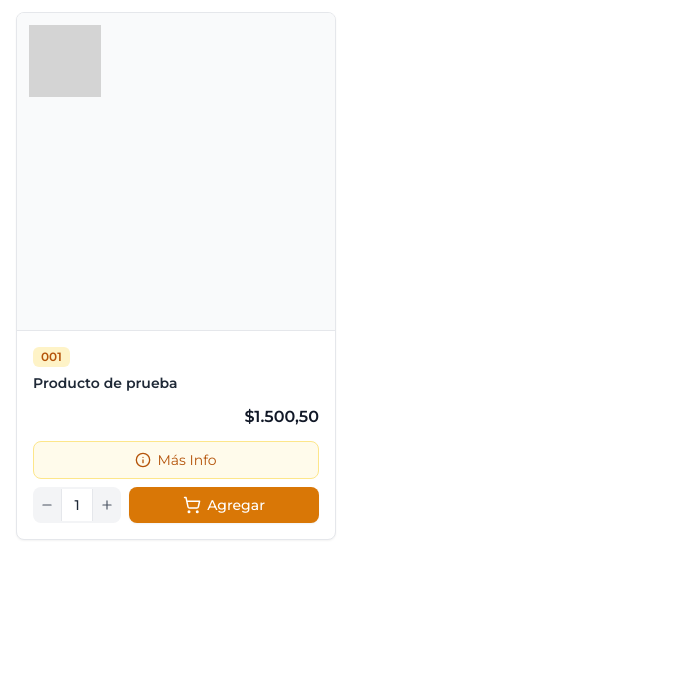
Test case: ProductCard › agregar al carrito › debería resetear cantidad a 1 después de agregar
The width and height of the screenshot is (681, 678).
Incrementar a 3
Click the button named "Aumentar cantidad": x=107, y=505 [93, 489, 121, 521]
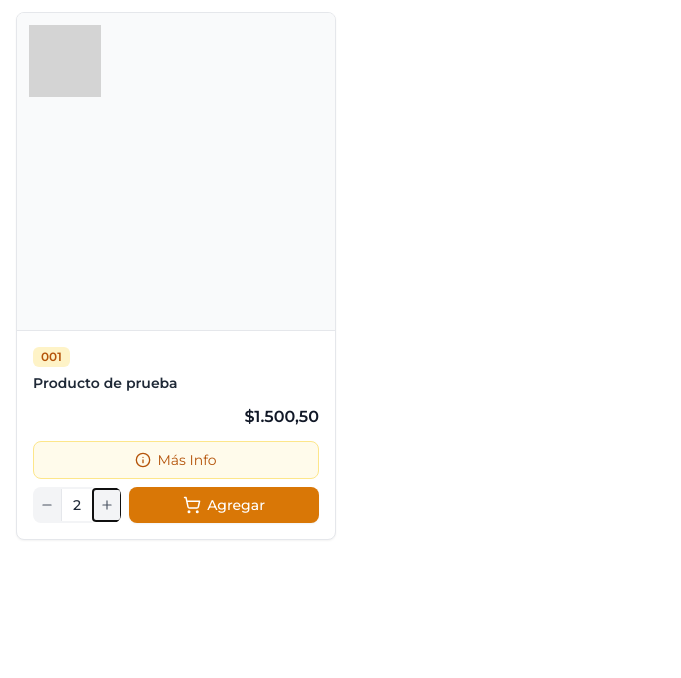
Click the button named "Aumentar cantidad": x=107, y=505 [93, 489, 121, 521]
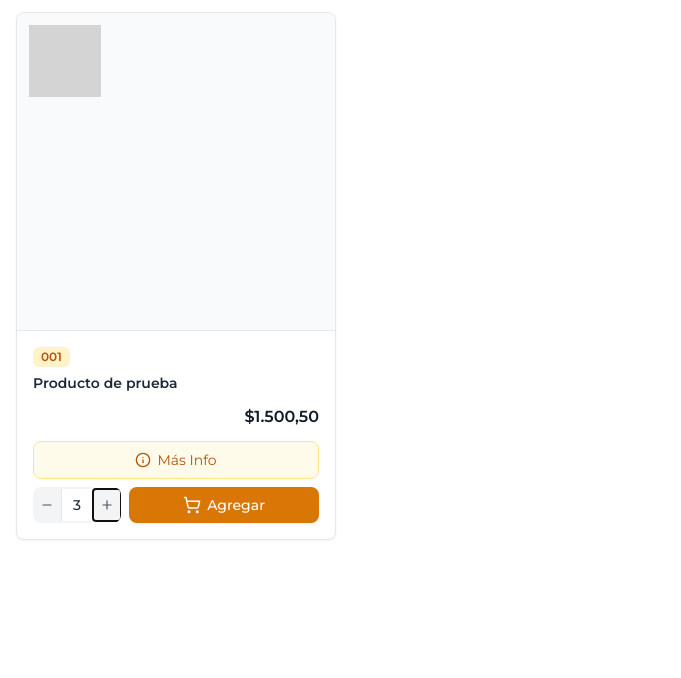
Click the button titled "Agregar al carrito": x=224, y=505 [129, 487, 319, 523]
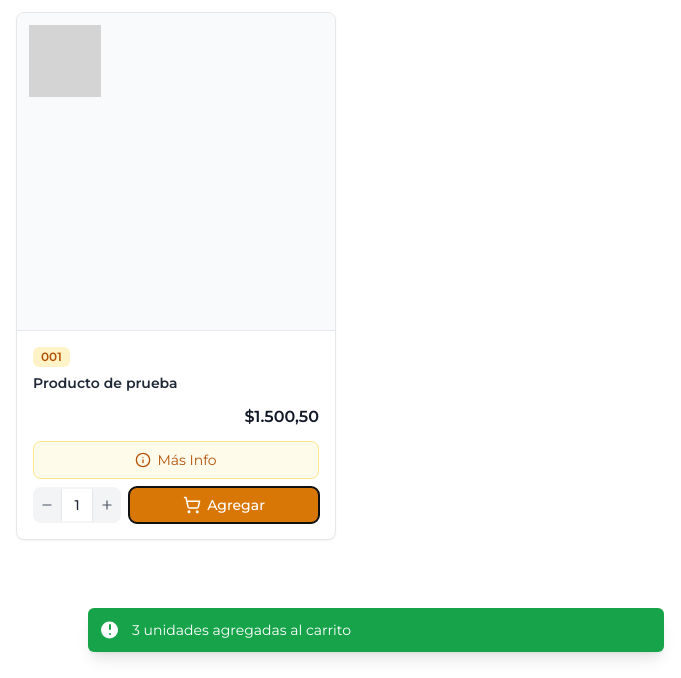
Now the number field holds "1", box [61, 489, 93, 521]
